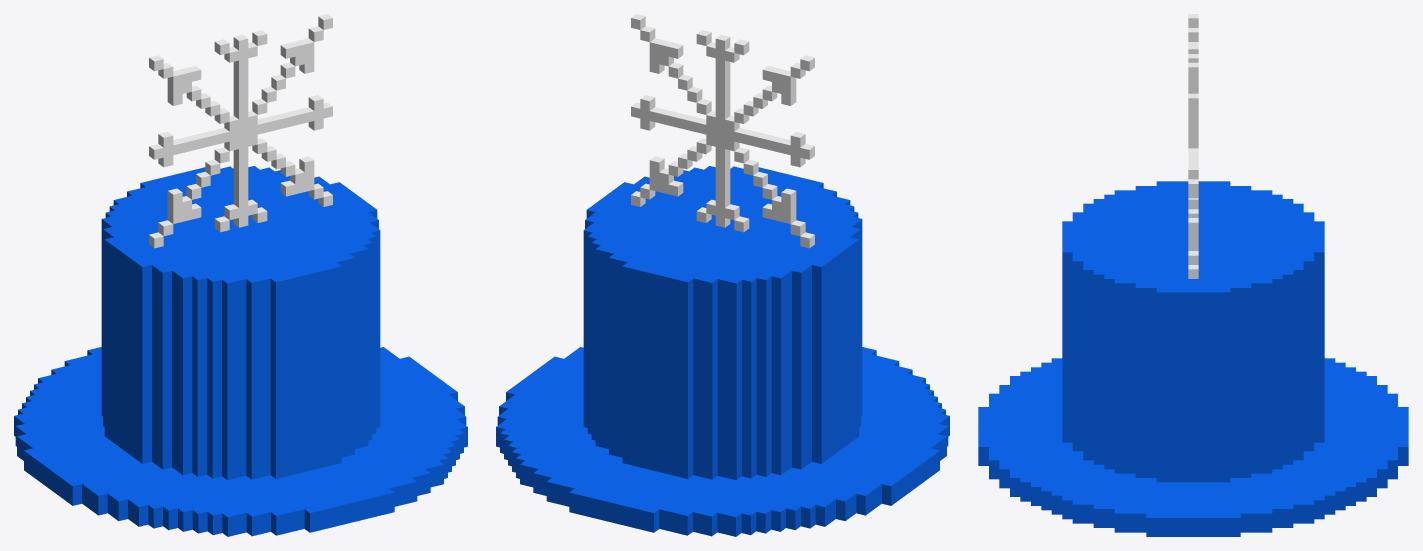
The model's file is Ice.obj.
3 renders of one model, left to right at view 1: azimuth 30°, elevation 25°; view 2: azimuth 150°, elevation 25°; view 3: azimuth 270°, elevation 25°, orthographic. The views are drawn at different scales.
Size of the model in its own units: 4.1 by 4.1 by 4.1.
Materials: 1 (1 with a texture image).
